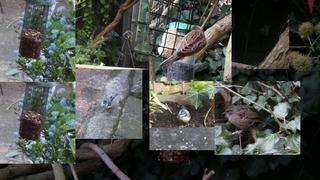blue tit: (101, 93, 118, 116), (176, 105, 191, 127)
dunnock: (221, 105, 276, 136)
sparrow: (159, 24, 208, 70)
